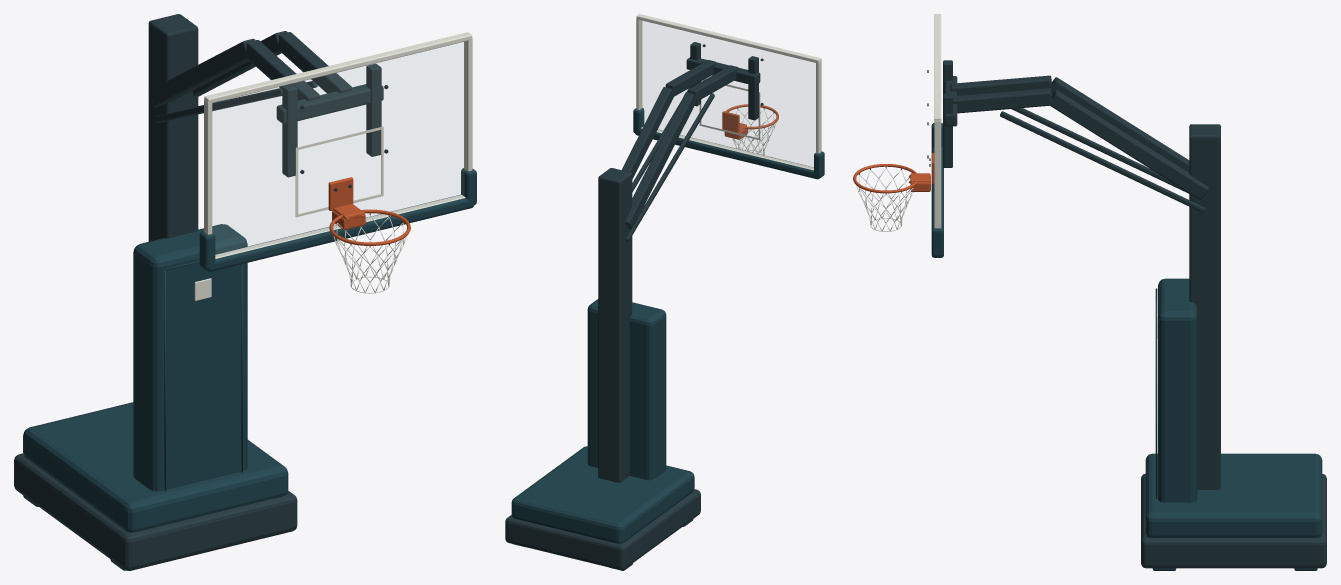
The model's file is courtiq-hoop.glb.
3 renders of one model, left to right at view 1: azimuth 30°, elevation 25°; view 2: azimuth 150°, elevation 25°; view 3: azimuth 270°, elevation 25°, orthographic. The views are drawn at different scales.
Parts seen in each view (by area): view 1: courtiq-hoop — Deep petrol upholstered padding, courtiq-hoop — Pale neutral tempered glass, courtiq-hoop — Powder coated graphite steel, courtiq-hoop — Warm ivory nylon and enamel, courtiq-hoop — Burnt orange rim enamel; view 2: courtiq-hoop — Powder coated graphite steel, courtiq-hoop — Deep petrol upholstered padding, courtiq-hoop — Pale neutral tempered glass, courtiq-hoop — Warm ivory nylon and enamel, courtiq-hoop — Burnt orange rim enamel; view 3: courtiq-hoop — Powder coated graphite steel, courtiq-hoop — Deep petrol upholstered padding, courtiq-hoop — Warm ivory nylon and enamel, courtiq-hoop — Burnt orange rim enamel.
Boxes of the visible parts, box(x1,y1,x2,y2) form: courtiq-hoop — Deep petrol upholstered padding: box(23, 168, 476, 570); courtiq-hoop — Pale neutral tempered glass: box(213, 42, 466, 256); courtiq-hoop — Powder coated graphite steel: box(14, 14, 388, 570); courtiq-hoop — Warm ivory nylon and enamel: box(194, 32, 472, 300); courtiq-hoop — Burnt orange rim enamel: box(328, 177, 410, 247); courtiq-hoop — Powder coated graphite steel: box(505, 42, 763, 570); courtiq-hoop — Deep petrol upholstered padding: box(511, 108, 824, 570); courtiq-hoop — Pale neutral tempered glass: box(641, 21, 815, 168); courtiq-hoop — Warm ivory nylon and enamel: box(636, 14, 821, 170); courtiq-hoop — Burnt orange rim enamel: box(722, 104, 778, 139); courtiq-hoop — Powder coated graphite steel: box(927, 60, 1326, 568); courtiq-hoop — Deep petrol upholstered padding: box(931, 123, 1322, 570); courtiq-hoop — Warm ivory nylon and enamel: box(856, 14, 1157, 338); courtiq-hoop — Burnt orange rim enamel: box(853, 153, 934, 194).
Bounding box in the file's own units: 1.95 × 3.99 × 3.62.
